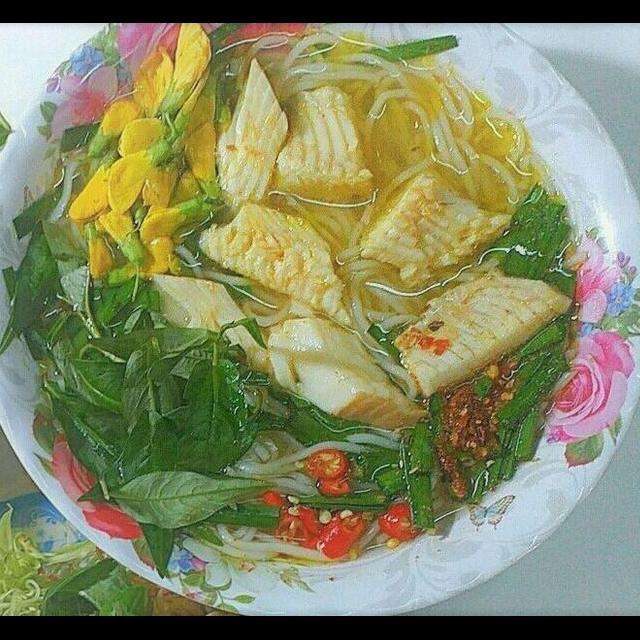bun: (293, 26, 536, 208), (190, 418, 415, 568)
bun ca: (0, 68, 639, 583)
ca: (390, 260, 584, 404), (259, 308, 433, 444), (192, 198, 359, 329), (358, 168, 524, 292), (268, 76, 387, 212), (202, 52, 295, 218)
rau ram: (33, 270, 269, 508), (105, 466, 278, 586), (0, 216, 115, 362)
